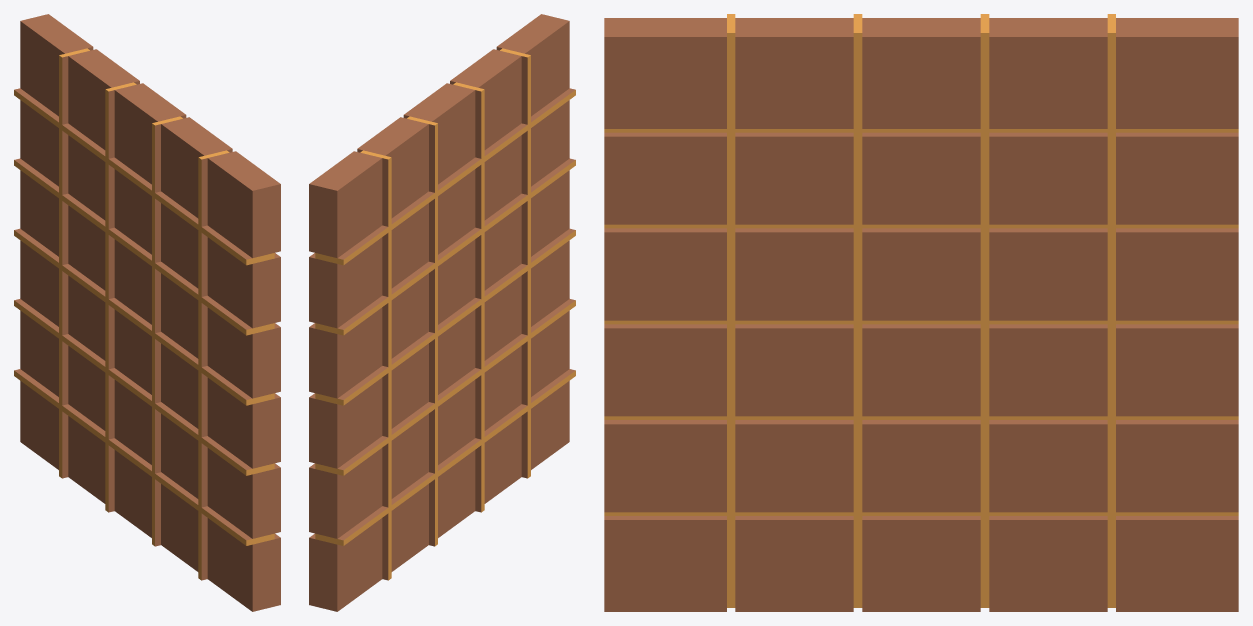
File: Modular Wall.fbx
3 renders of one model, left to right at view 1: azimuth 30°, elevation 25°; view 2: azimuth 150°, elevation 25°; view 3: azimuth 270°, elevation 25°, orthographic. The views are drawn at different scales.
Visible parts, largest first — view 1: Cube; view 2: Cube; view 3: Cube.
Boxes of the visible parts, bbox=[...] form: Cube: bbox=[14, 14, 280, 611]; Cube: bbox=[309, 14, 575, 611]; Cube: bbox=[604, 14, 1238, 611].
Size of the model in its own units: 17.11 by 200 by 200.
